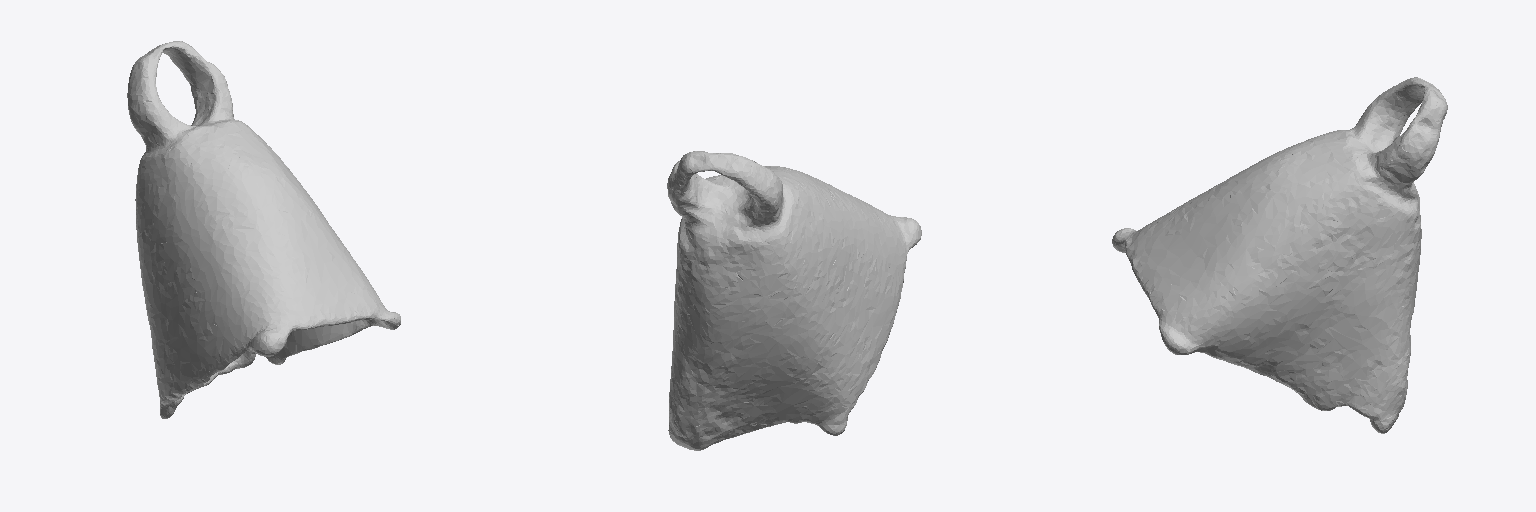
Rendered from clopot_bronz.obj.
3 views of the same model, side by side, from view 1: azimuth 30°, elevation 25°; view 2: azimuth 150°, elevation 25°; view 3: azimuth 270°, elevation 25° (orthographic).
Visible parts, largest first — view 1: Polygonal_Model_1 282; view 2: Polygonal_Model_1 282; view 3: Polygonal_Model_1 282.
Boxes of the visible parts, x1=… form: Polygonal_Model_1 282: x1=127, y1=41, x2=400, y2=418; Polygonal_Model_1 282: x1=667, y1=151, x2=921, y2=450; Polygonal_Model_1 282: x1=1112, y1=77, x2=1447, y2=433.
Size of the model in its own units: 37.6 by 62.32 by 58.81.